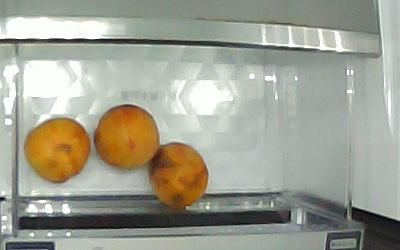peach: (24, 117, 91, 184), (94, 105, 160, 171), (149, 142, 209, 211)
